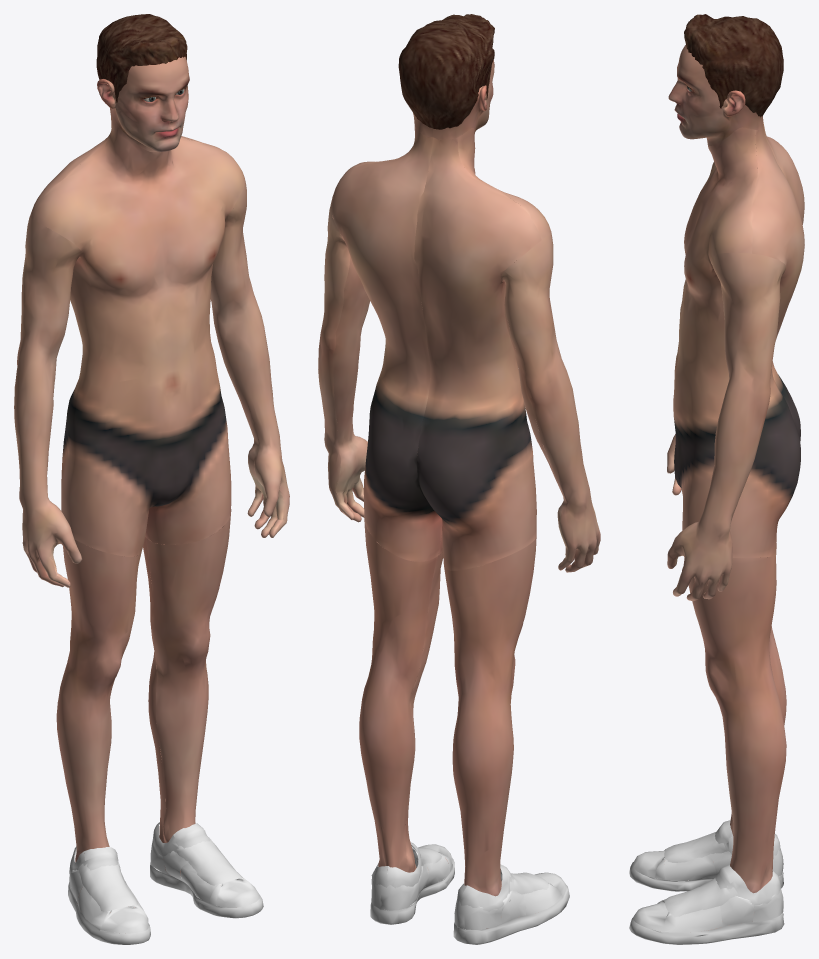
The model's file is abaya_male_body.glb.
The picture shows the model from 3 angles, left to right: view 1: azimuth 30°, elevation 25°; view 2: azimuth 150°, elevation 25°; view 3: azimuth 270°, elevation 25°; orthographic projection.
Parts seen in each view (by area): view 1: body_Node.003, shoes_l_Shape_Node.002, hair_Shape_Node.002; view 2: body_Node.003, shoes_l_Shape_Node.002, hair_Shape_Node.002; view 3: body_Node.003, shoes_l_Shape_Node.002, hair_Shape_Node.002.
Part boxes in pixels (x1,y1,x2,y2): body_Node.003: [14, 56, 289, 912]; shoes_l_Shape_Node.002: [68, 822, 263, 944]; hair_Shape_Node.002: [96, 14, 187, 102]; body_Node.003: [318, 60, 600, 928]; shoes_l_Shape_Node.002: [370, 842, 569, 944]; hair_Shape_Node.002: [398, 14, 494, 129]; body_Node.003: [667, 45, 804, 930]; shoes_l_Shape_Node.002: [629, 820, 784, 944]; hair_Shape_Node.002: [684, 14, 783, 117].
Bounding box in the file's own units: 58.7 × 191 × 34.38.
Materials: 4 (3 with a texture image).
